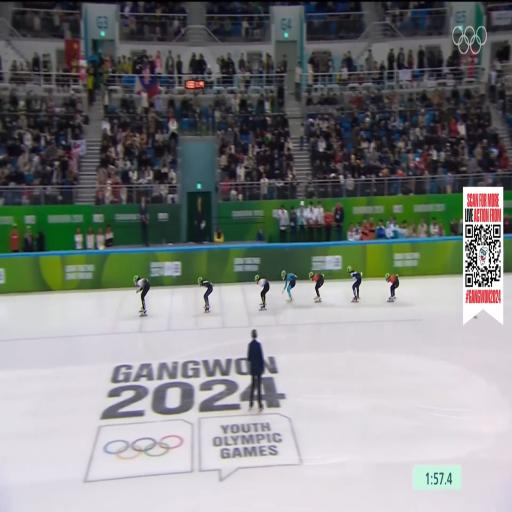Skater: (134, 276, 150, 316), (198, 278, 213, 312), (348, 266, 362, 302), (255, 275, 269, 310), (282, 271, 296, 301), (309, 272, 323, 302), (385, 274, 399, 301)
